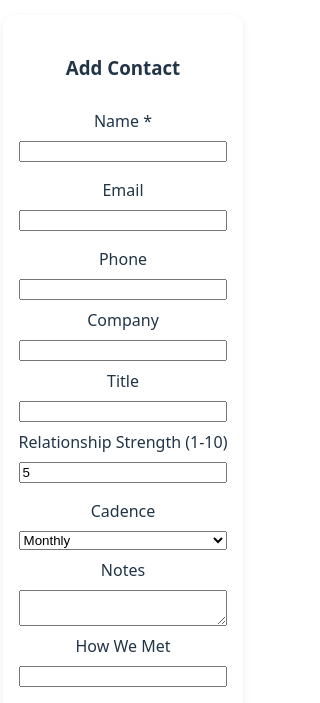
Test: AddContactForm › shows validation error for missing name
Type "test@example.com" into the field labelled "Email" at (123, 220), box [19, 210, 228, 230]
(page scrolled)
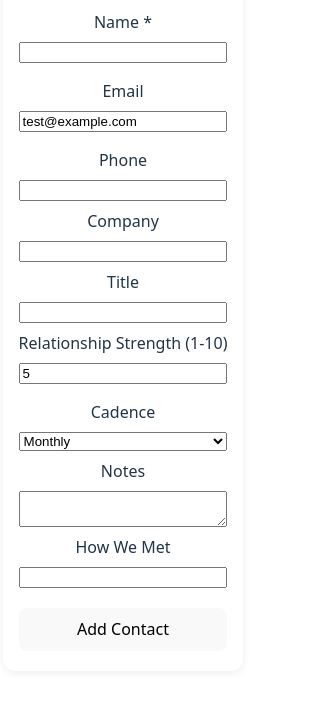
Click the button "Add Contact" at (123, 629), box [19, 608, 228, 651]
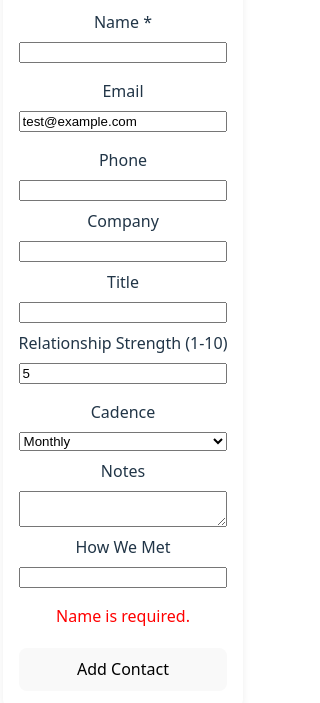
Expected: the text "Name is required." is shown, [56, 604, 190, 626]
